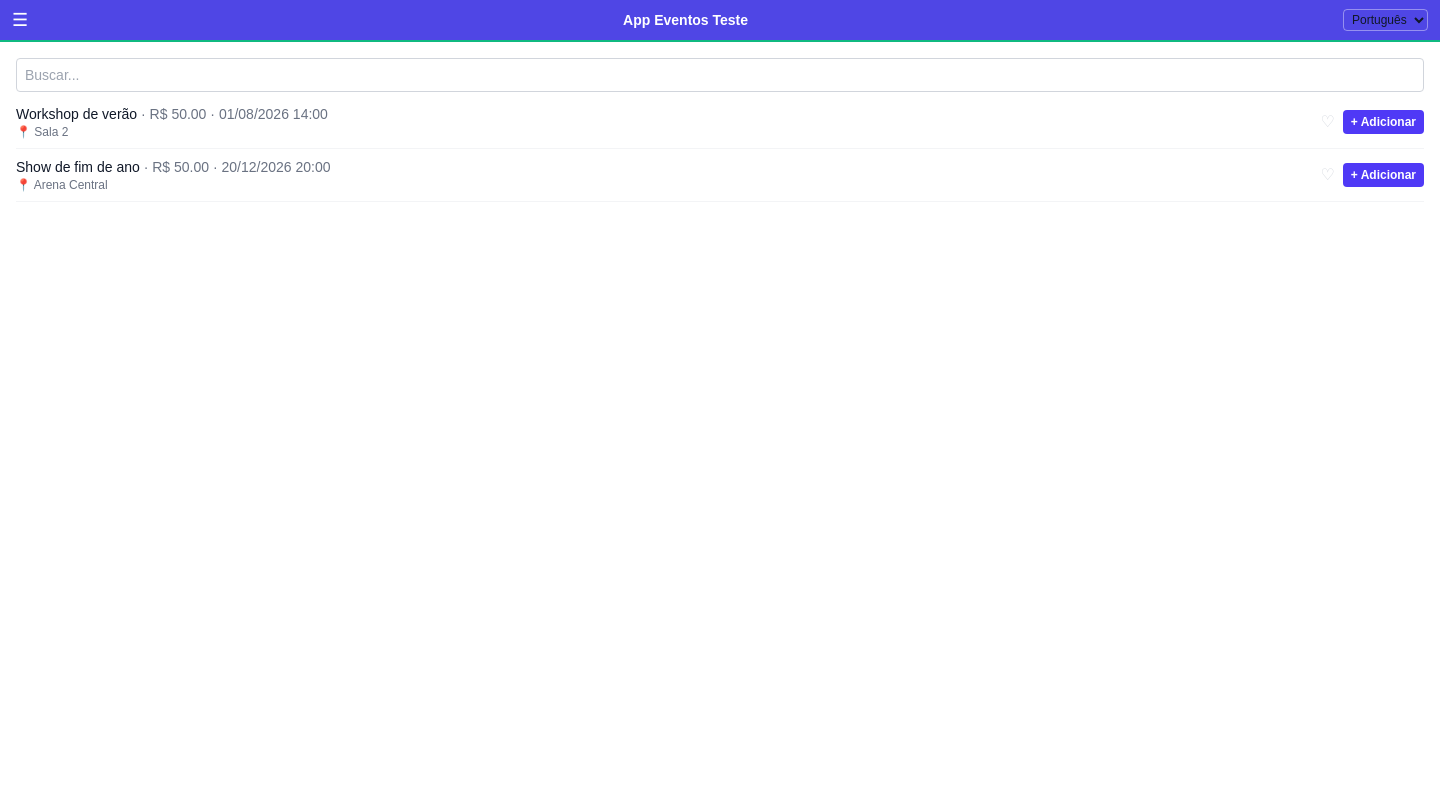
Scenario: AppRuntime venda_ingressos module (public mode) › allows adding a ticket to the cart
The image size is (1440, 810).
Expected: the text "Workshop de verão" is shown, [16,106,137,122]
Click the button "+ Adicionar" in the row of "14:00" at (1383, 122), box [1343,110,1424,134]
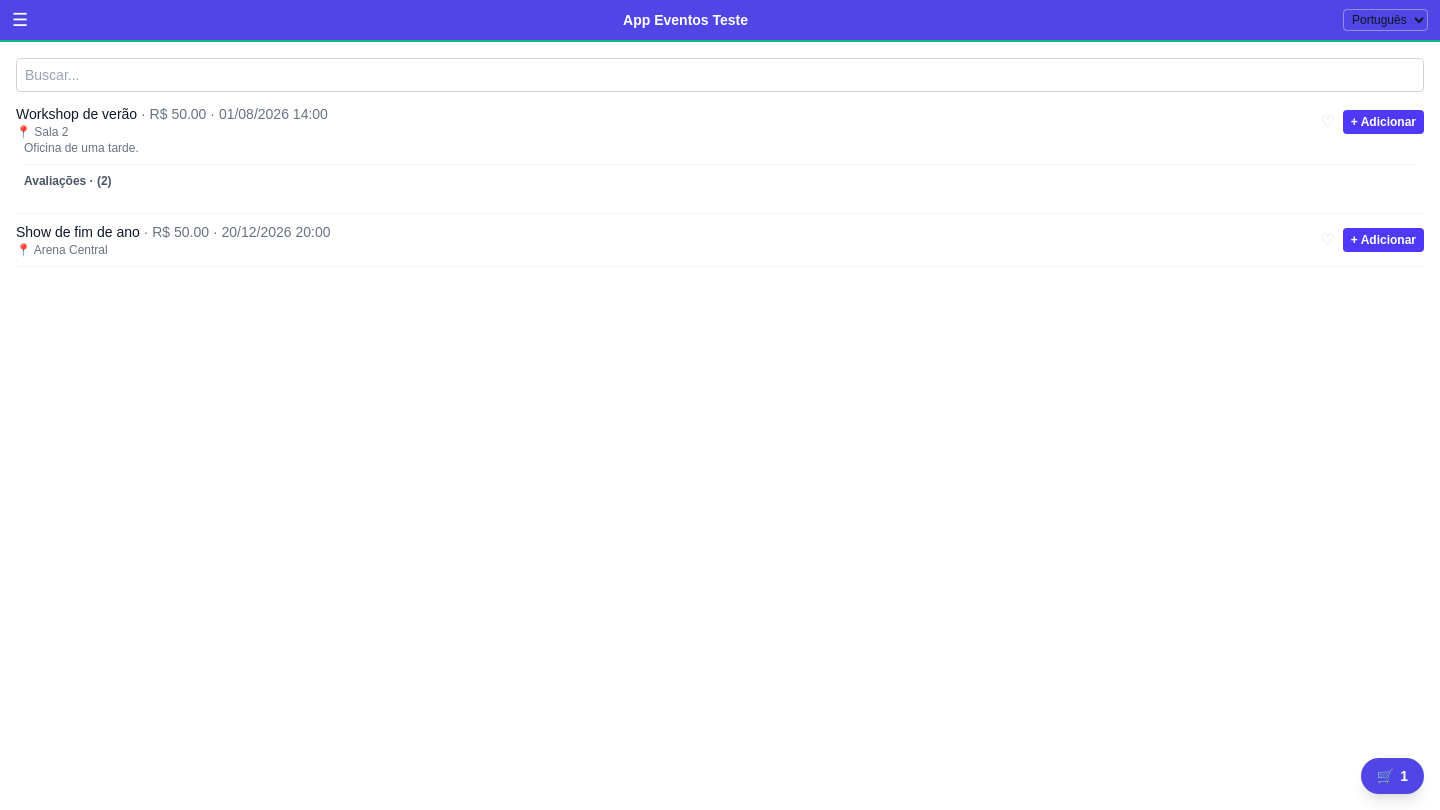
Expected: the text "1" is shown, [1400,766,1408,786]
